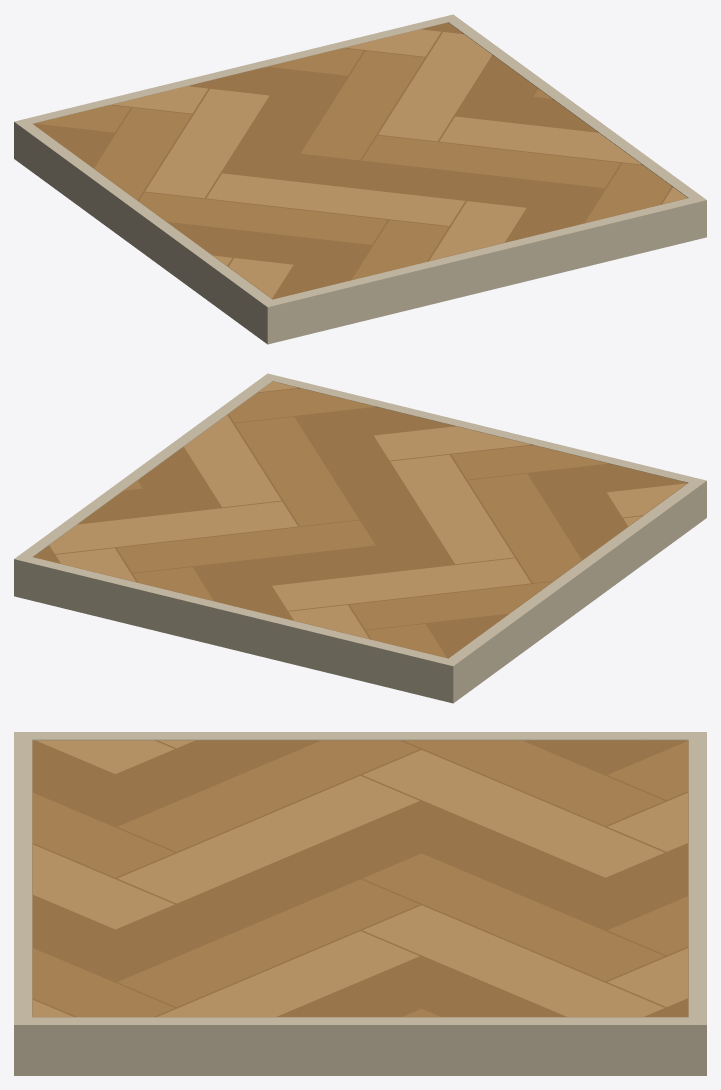
Rendered from floor-tile.fbx.
The picture shows the model from 3 angles, top to bottom: view 1: azimuth 30°, elevation 25°; view 2: azimuth 150°, elevation 25°; view 3: azimuth 270°, elevation 25°; orthographic projection. The views are drawn at different scales.
Parts seen in each view (by area): view 1: floor-tile; view 2: floor-tile; view 3: floor-tile.
Part boxes in pixels (x1=…): floor-tile: x1=14, y1=14, x2=706, y2=344; floor-tile: x1=14, y1=373, x2=706, y2=703; floor-tile: x1=14, y1=732, x2=706, y2=1075.
Size of the model in its own units: 400 by 32.4 by 400.
